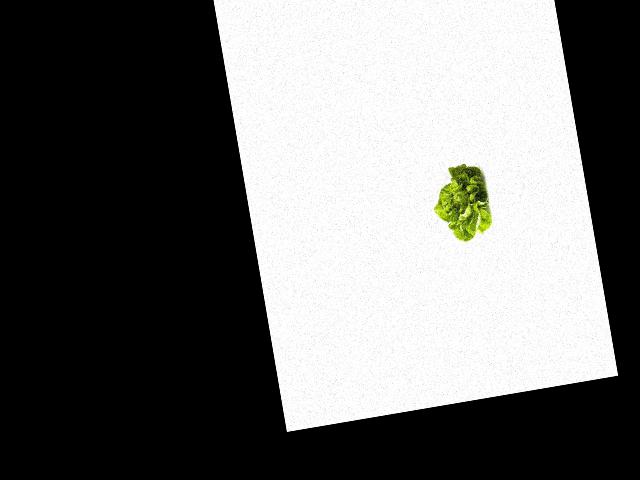lettuce: (427, 159, 495, 248)
